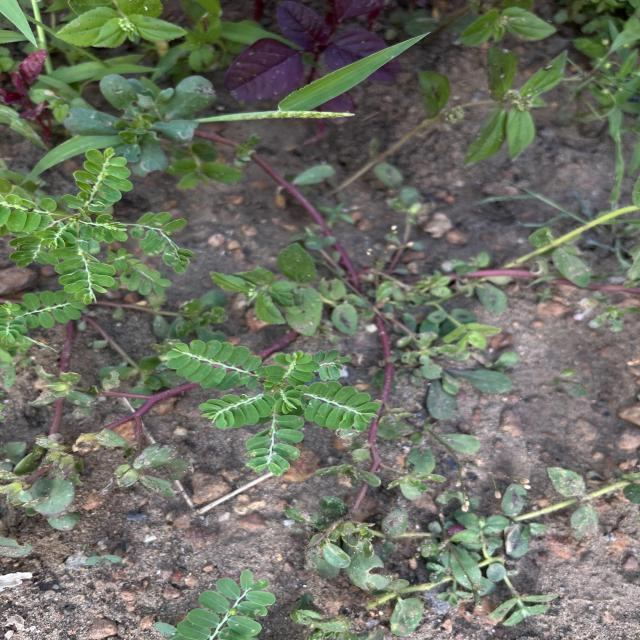Phyllanthus niruri: (162, 338, 262, 392), (287, 379, 382, 432), (59, 146, 134, 213), (47, 242, 118, 306), (244, 410, 306, 478), (198, 390, 276, 430), (264, 349, 322, 386)
